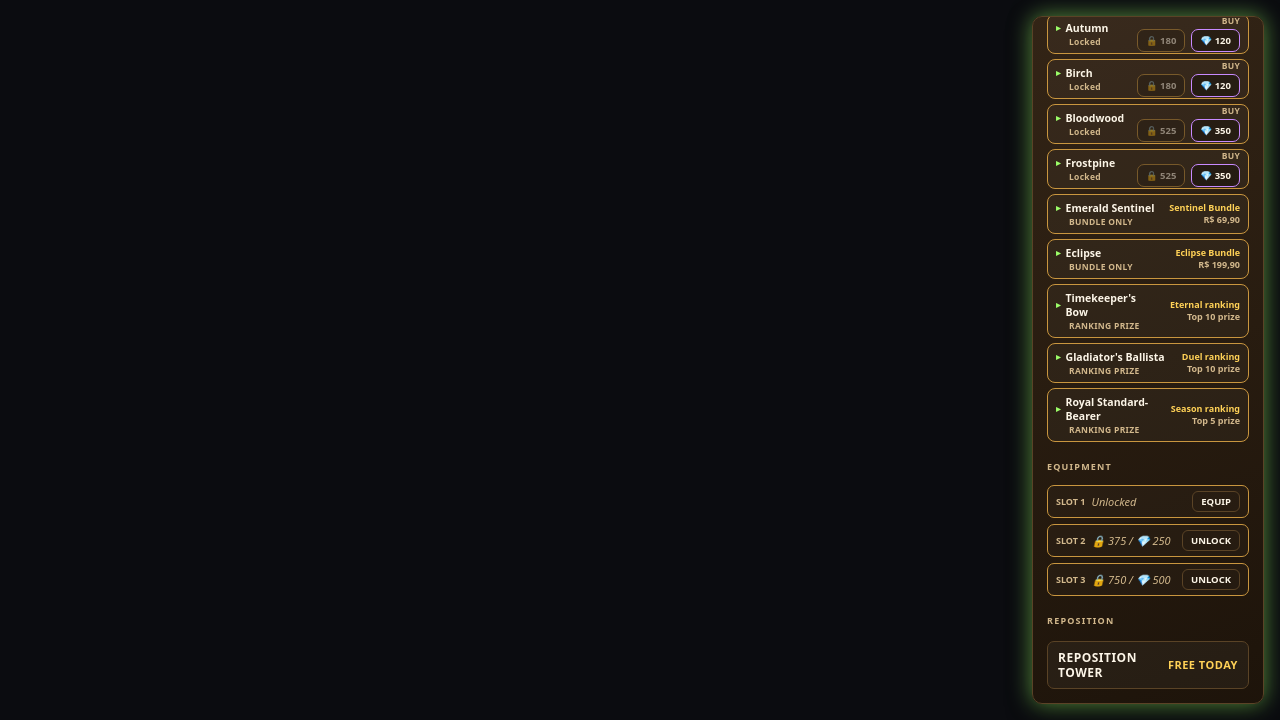
Test: TowerInfoPanel — Equipment slot unlock UI (SISTEMA DE SLOTS DE EQUIPAMENTO) › with only Purchased Gems sufficient, UNLOCK stays enabled and the confirmation step disables the Free button with the exact shortfall in its tooltip
(page scrolled)
Click the button "UNLOCK" next to "250".
click(1211, 540)  # box top-left (1182, 530), bottom-right (1240, 551)
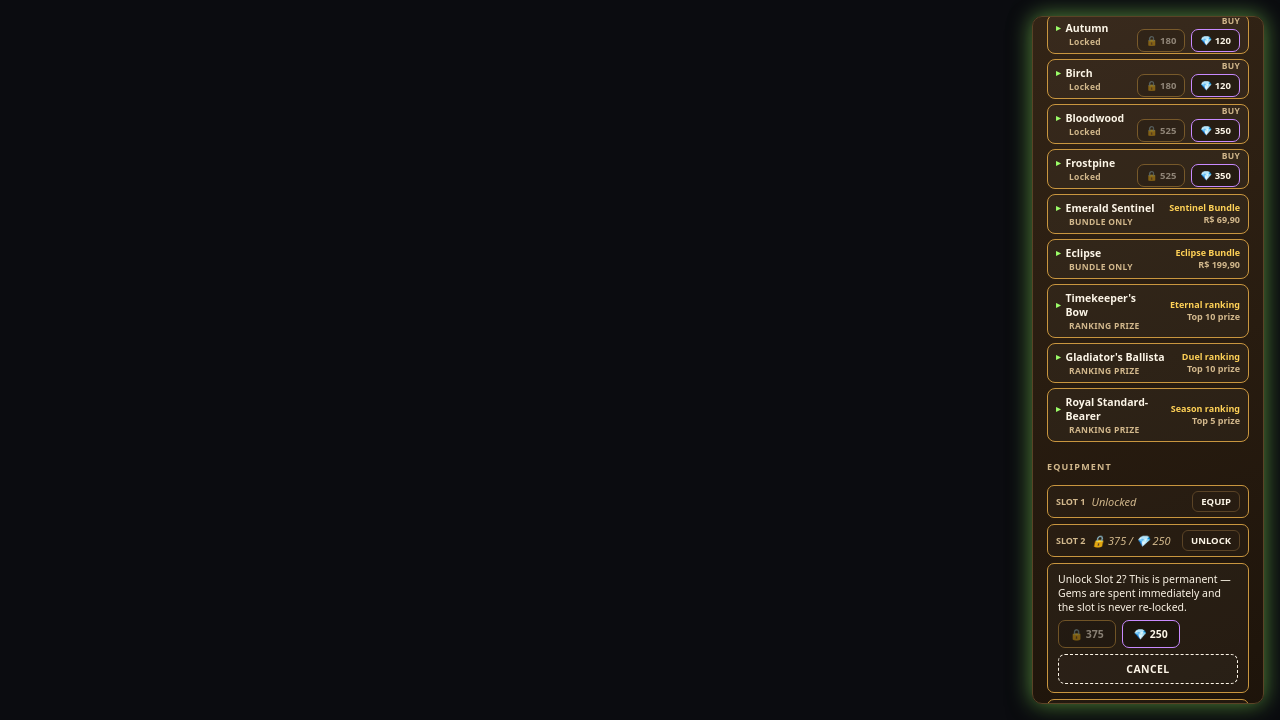
Check: the button "🔒 375" is disabled, box top-left (1058, 620), bottom-right (1116, 648)
Check: the button "💎 250" is enabled, box top-left (1122, 620), bottom-right (1180, 648)
